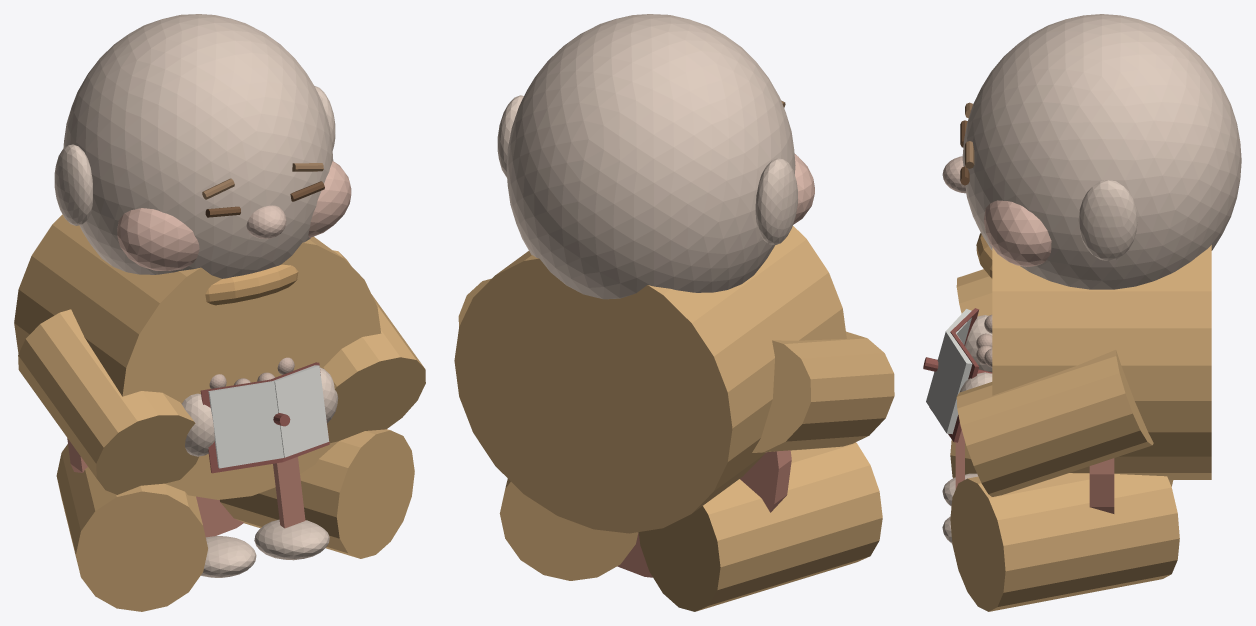
Rendered from chibi_monk.glb.
3 renders of one model, left to right at view 1: azimuth 30°, elevation 25°; view 2: azimuth 150°, elevation 25°; view 3: azimuth 270°, elevation 25°, orthographic. The views are drawn at different scales.
Visible parts, largest first — view 1: head, torso, sleeve_-1, leg_-1, leg_1, sleeve_1, book_pages_l, cheek_-1, book_pages_r, ear_-1, foot_1, collar (+8 smaller); view 2: torso, head, leg_-1, sleeve_-1, leg_1, ear_-1, belt, cheek_-1, ear_1; view 3: head, torso, leg_1, sleeve_1, ear_1, cheek_1, book_pages_r, sleeve_-1, belt, hand_-1, nose, collar (+2 smaller).
Part boxes in pixels (left/top/right/bottom): head: left=63, top=14, right=333, bottom=278; torso: left=14, top=214, right=381, bottom=499; sleeve_-1: left=18, top=309, right=198, bottom=494; leg_-1: left=56, top=444, right=207, bottom=611; leg_1: left=220, top=429, right=414, bottom=558; sleeve_1: left=323, top=250, right=425, bottom=443; book_pages_l: left=208, top=381, right=283, bottom=468; cheek_-1: left=117, top=208, right=199, bottom=270; book_pages_r: left=272, top=365, right=329, bottom=457; ear_-1: left=54, top=144, right=92, bottom=225; foot_1: left=254, top=519, right=329, bottom=560; collar: left=205, top=264, right=298, bottom=305; torso: left=454, top=226, right=846, bottom=533; head: left=506, top=14, right=795, bottom=299; leg_-1: left=638, top=442, right=882, bottom=611; sleeve_-1: left=752, top=331, right=894, bottom=452; leg_1: left=499, top=478, right=638, bottom=580; ear_-1: left=755, top=158, right=797, bottom=245; belt: left=617, top=450, right=791, bottom=577; cheek_-1: left=793, top=154, right=814, bottom=224; ear_1: left=497, top=95, right=523, bottom=177; head: left=962, top=14, right=1241, bottom=289; torso: left=992, top=245, right=1211, bottom=479; leg_1: left=950, top=473, right=1179, bottom=611; sleeve_1: left=956, top=350, right=1153, bottom=496; ear_1: left=1078, top=180, right=1137, bottom=260; cheek_1: left=984, top=200, right=1051, bottom=266; book_pages_r: left=926, top=331, right=972, bottom=434; sleeve_-1: left=956, top=269, right=992, bottom=316; belt: left=1089, top=458, right=1114, bottom=513; hand_-1: left=965, top=315, right=992, bottom=372; nose: left=942, top=156, right=965, bottom=193; collar: left=976, top=233, right=992, bottom=278.
Size of the model in its own units: 1.29 by 1.87 by 1.03.
